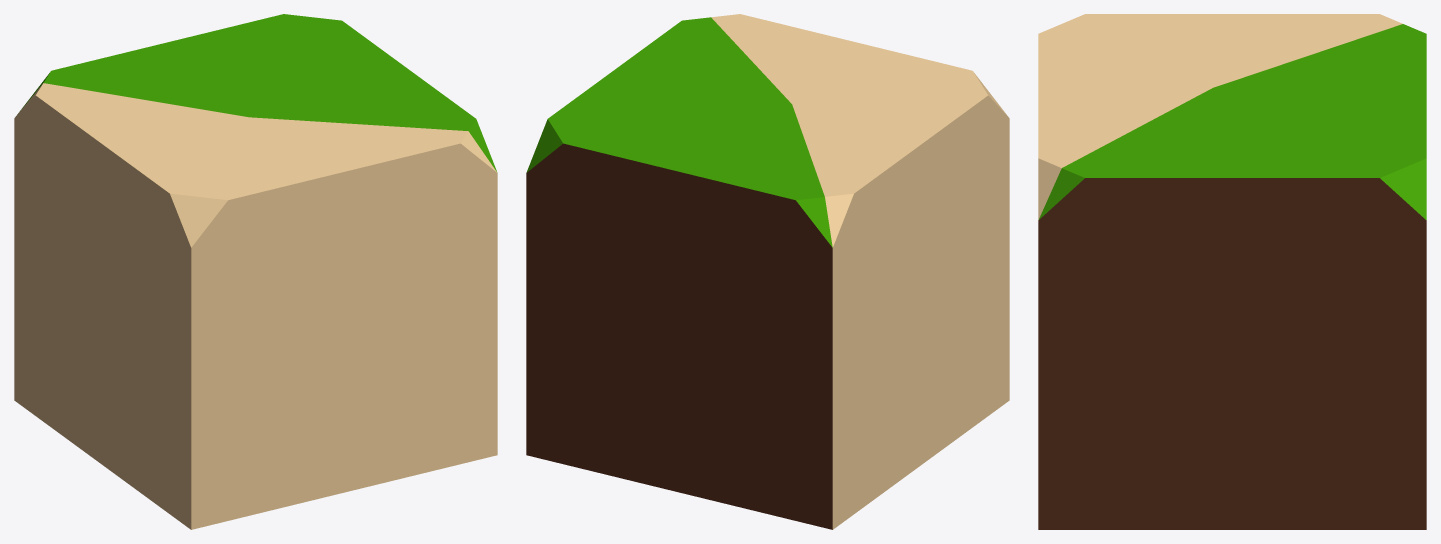
File: Tile_Grass_to_Sand_Corner.fbx
3 views of the same model, side by side, from view 1: azimuth 30°, elevation 25°; view 2: azimuth 150°, elevation 25°; view 3: azimuth 270°, elevation 25° (orthographic). The views are drawn at different scales.
Parts seen in each view (by area): view 1: TIle_Grass_to_Sand_Corner; view 2: TIle_Grass_to_Sand_Corner; view 3: TIle_Grass_to_Sand_Corner.
Boxes of the visible parts, box(x1,y1,x2,y2) form: TIle_Grass_to_Sand_Corner: box(14, 14, 497, 529); TIle_Grass_to_Sand_Corner: box(526, 14, 1009, 529); TIle_Grass_to_Sand_Corner: box(1038, 14, 1426, 529).
Size of the model in its own units: 5 by 5 by 5.
